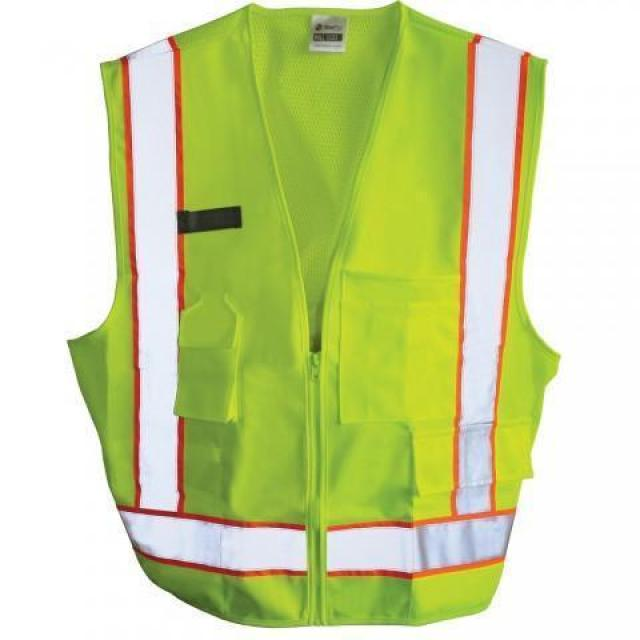Vest: (60, 0, 559, 635)
